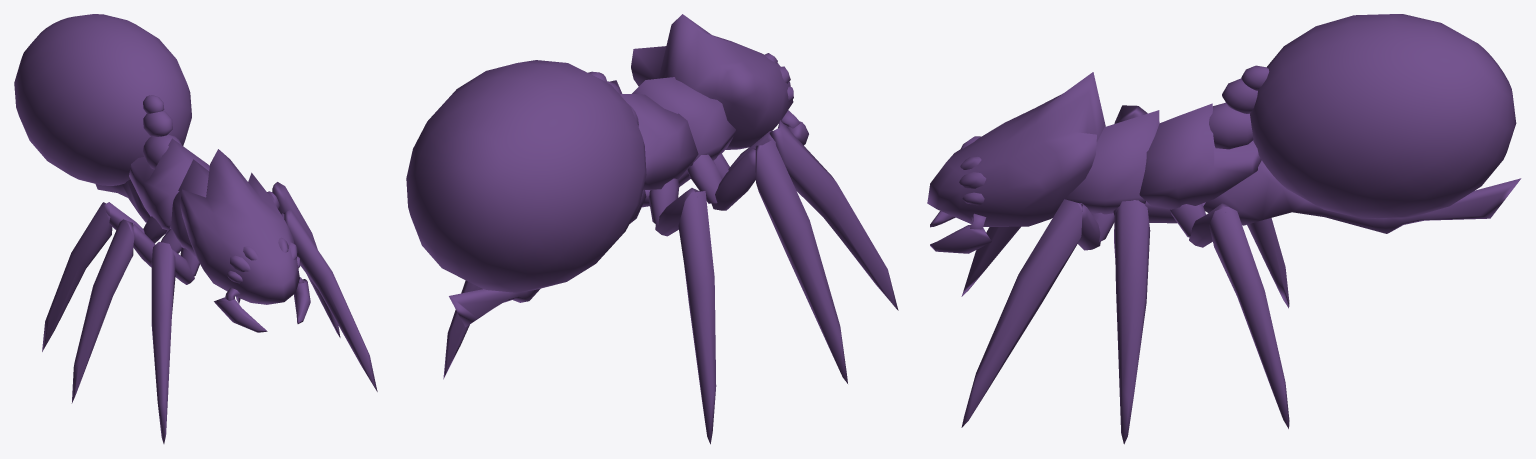
Rendered from Enemy_002.fbx.
3 views of the same model, side by side, from view 1: azimuth 30°, elevation 25°; view 2: azimuth 150°, elevation 25°; view 3: azimuth 270°, elevation 25° (orthographic). The views are drawn at different scales.
Parts seen in each view (by area): view 1: Enemy_002; view 2: Enemy_002; view 3: Enemy_002.
Boxes of the visible parts, bbox=[...] form: Enemy_002: bbox=[14, 14, 377, 443]; Enemy_002: bbox=[406, 14, 898, 444]; Enemy_002: bbox=[927, 14, 1521, 444].
Size of the model in its own units: 133 by 131 by 203.
